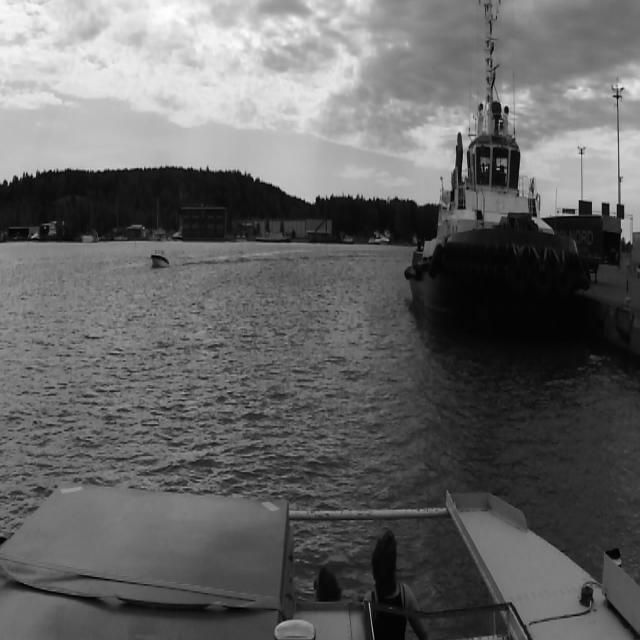ship: (406, 0, 594, 367), (149, 245, 171, 274)
